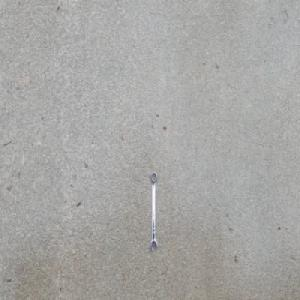Wrench: (149, 169, 158, 254)
